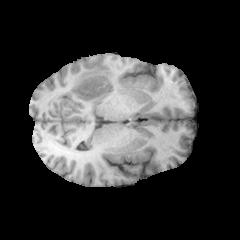glioma: (66, 60, 115, 103)
